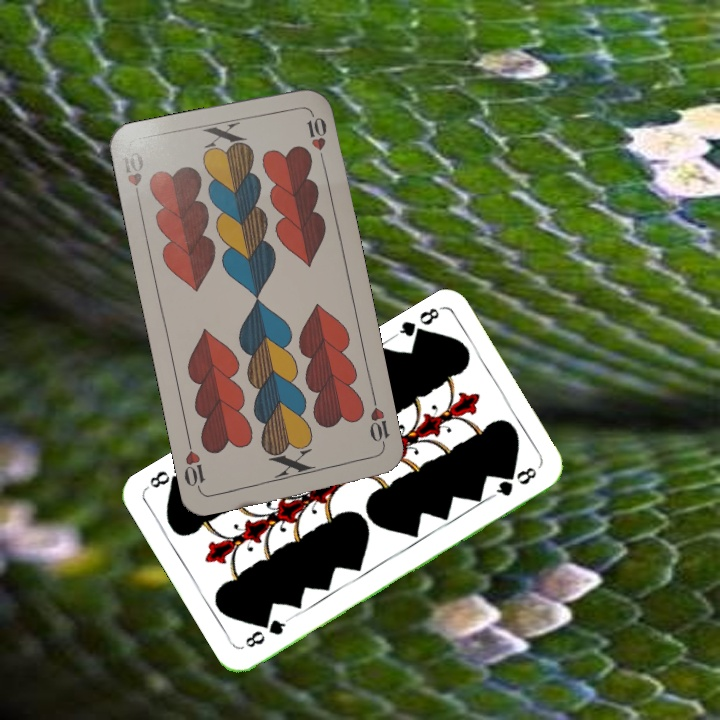G8: (390, 303, 444, 345), (240, 614, 292, 651)
H10: (118, 147, 147, 207), (365, 393, 392, 453)
